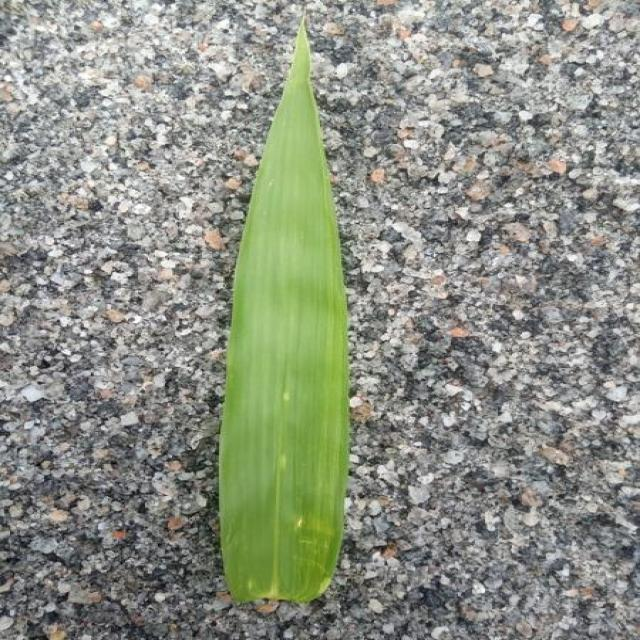Bamboo: (218, 20, 348, 602)
